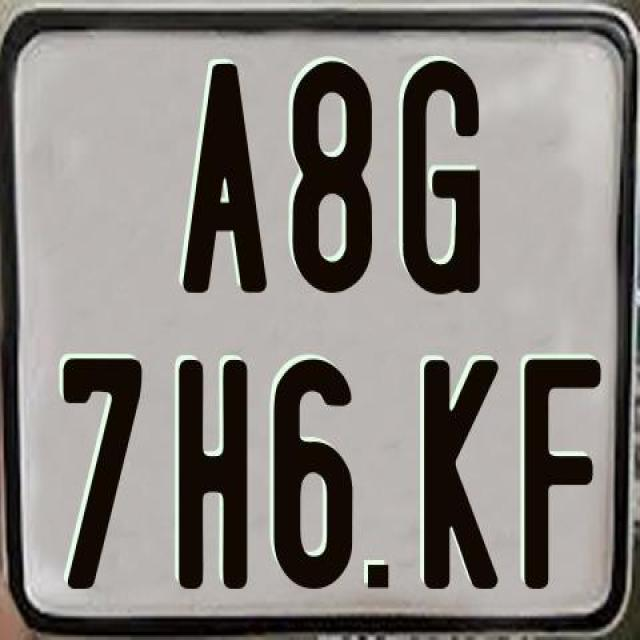6: (270, 355, 350, 592)
7: (58, 353, 140, 584)
8: (289, 58, 372, 296)
A: (180, 62, 266, 292)
F: (522, 355, 606, 586)
G: (402, 60, 479, 298)
H: (175, 356, 252, 594)
K: (424, 357, 502, 590)
